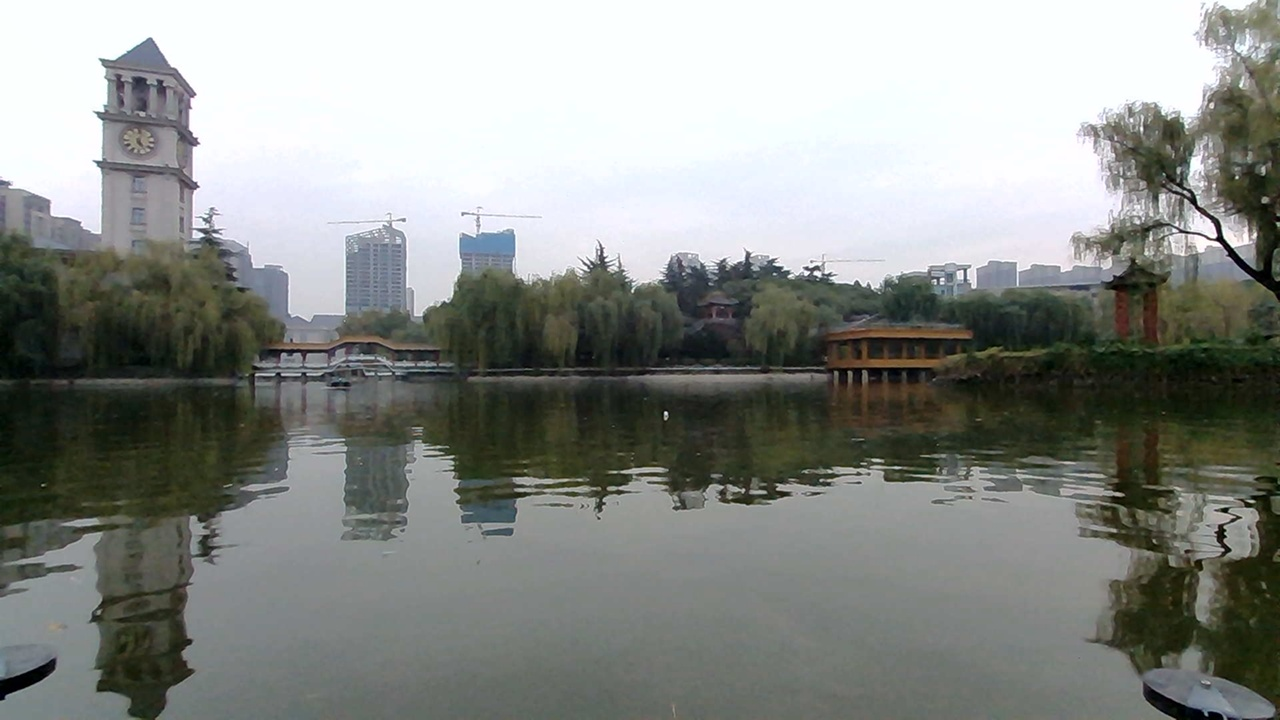bottle: (651, 400, 685, 425)
